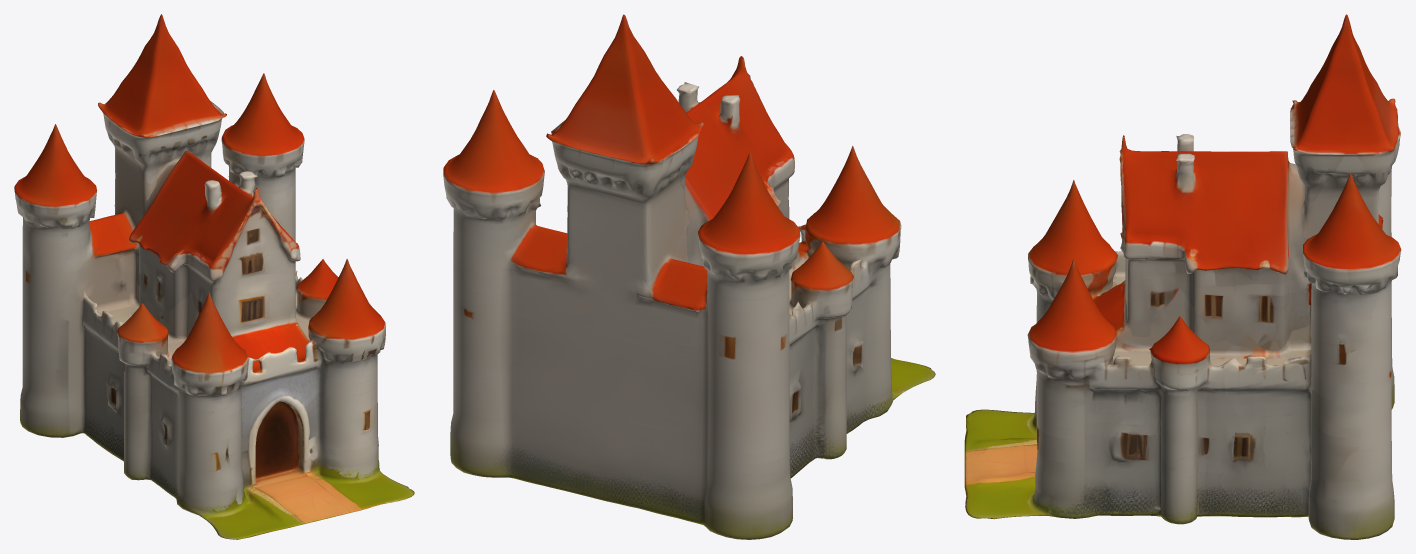
Rendered from clean-castle.glb.
3 views of the same model, side by side, from view 1: azimuth 30°, elevation 25°; view 2: azimuth 150°, elevation 25°; view 3: azimuth 270°, elevation 25° (orthographic). The views are drawn at different scales.
Parts seen in each view (by area): view 1: model; view 2: model; view 3: model.
Part boxes in pixels (bbox=[...]): model: bbox=[14, 14, 414, 539]; model: bbox=[443, 14, 935, 539]; model: bbox=[964, 14, 1401, 539].
Size of the model in its own units: 1.41 by 1.87 by 1.64.
Materials: 1 (1 with a texture image).
